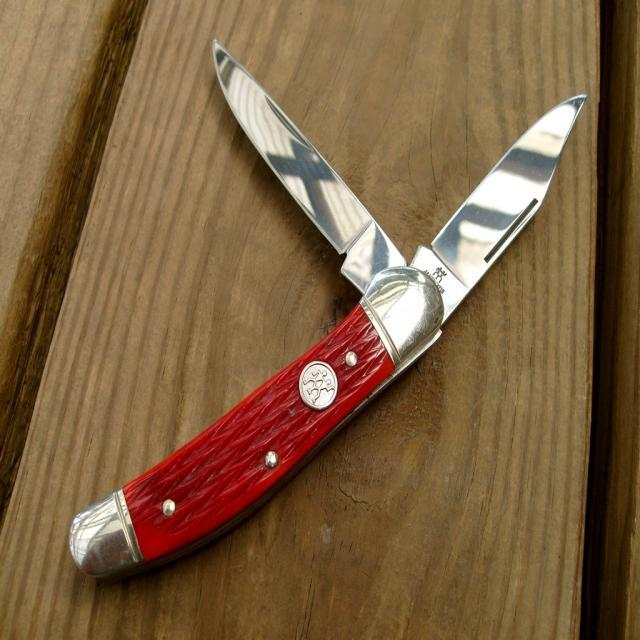Knife: (69, 41, 586, 577)
